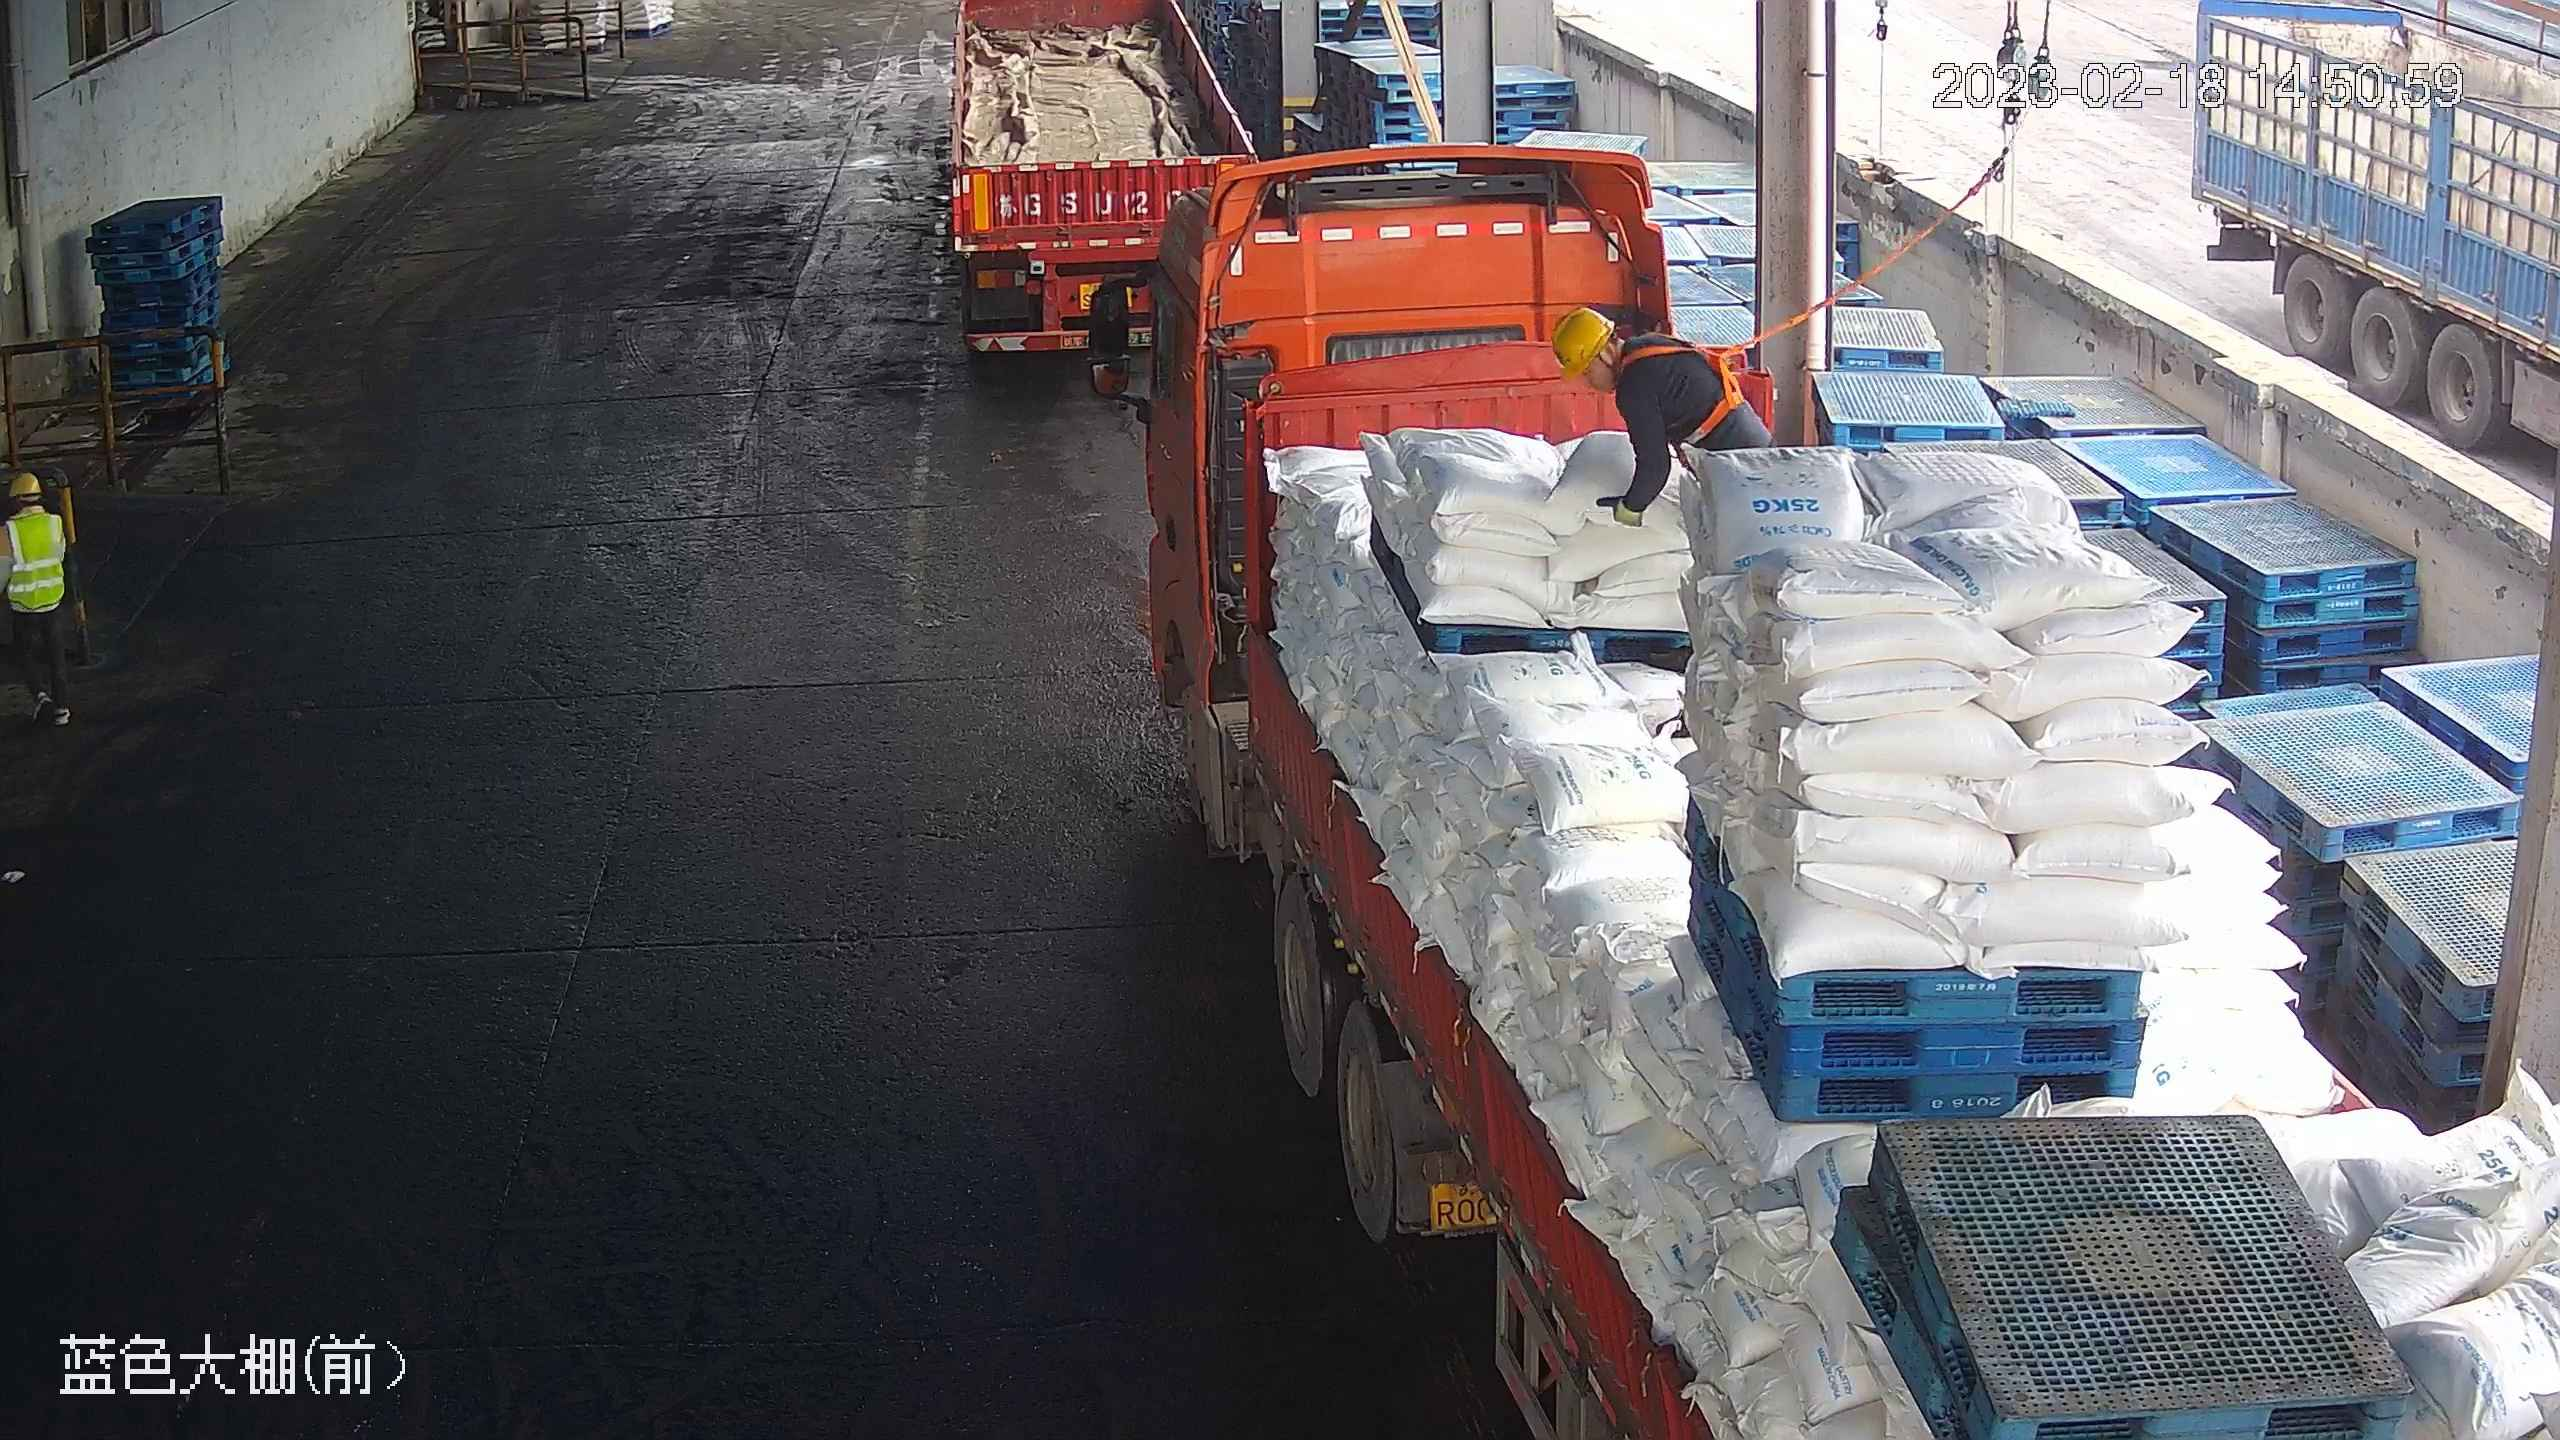belt: (1621, 330, 1746, 443)
head: (1549, 304, 1689, 414), (1, 475, 67, 549)
helmet: (1549, 304, 1615, 382)
people: (1551, 305, 1778, 575)
truck: (1114, 161, 2560, 1438), (938, 1, 1283, 350)
